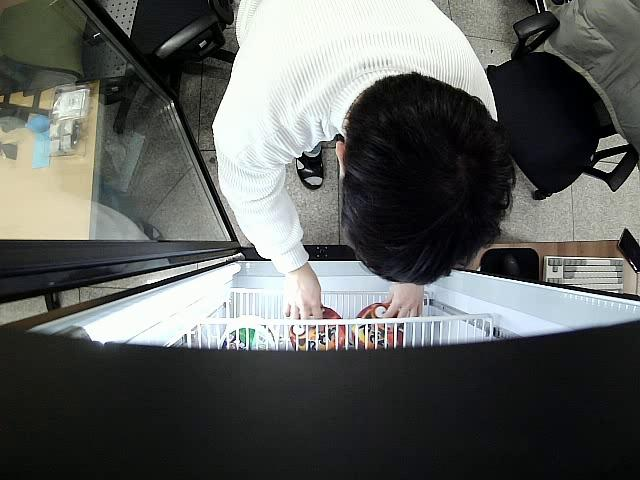00_hand: (280, 271, 324, 330), (382, 285, 426, 329)
05_nuguri_L: (289, 306, 347, 351), (356, 303, 409, 351)
